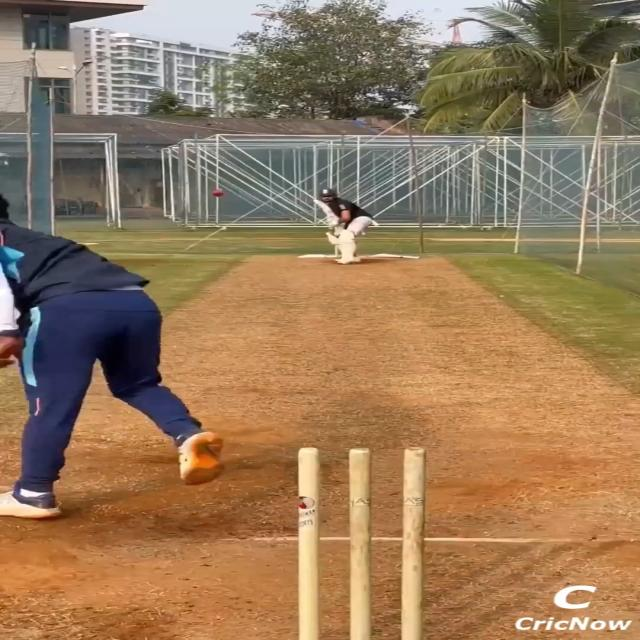ball: (211, 189, 225, 198)
stump: (296, 446, 424, 640)
